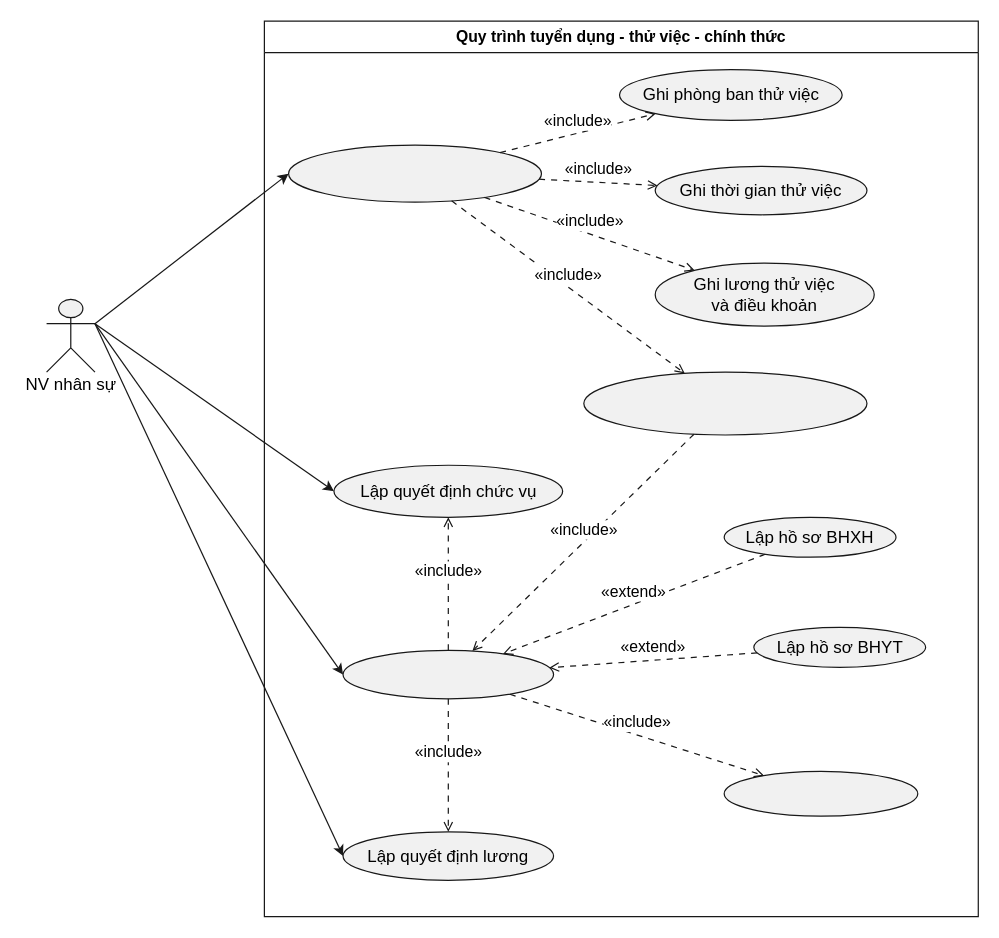
Some shapes in this 999 by 938 pixel diagram are drawn without their labels. Each missing label, with the centre of its shape:
"Chọn loại hợp đồng" belongs at point 820,793.
"Ký hợp đồng lao động" belongs at point 448,674.
"Lập quyết định tuyển dụng" belongs at point 414,173.
"Theo dõi hết thời gian thử việc" belongs at point 725,403.
